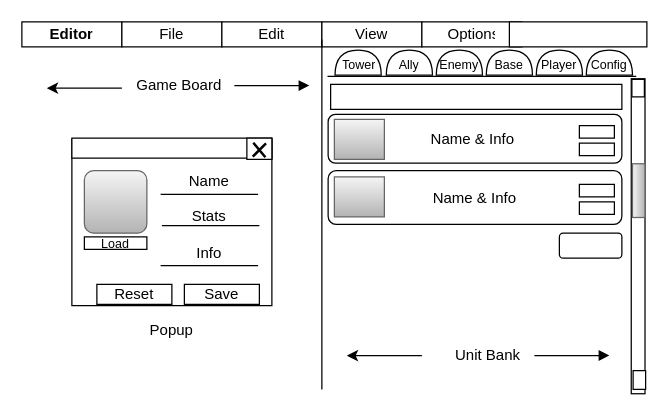
This 669x416 diagram has some shape labels left out. The shapes that lost their labels are listed below. From the top down, each one's box as (x1, y1, x2, y2) in pixels, then its label:
(508, 21, 647, 47): Help
(329, 83, 622, 109): Existing Units
(71, 137, 272, 158): New Unit
(83, 169, 147, 233): Image
(558, 232, 622, 258): New
